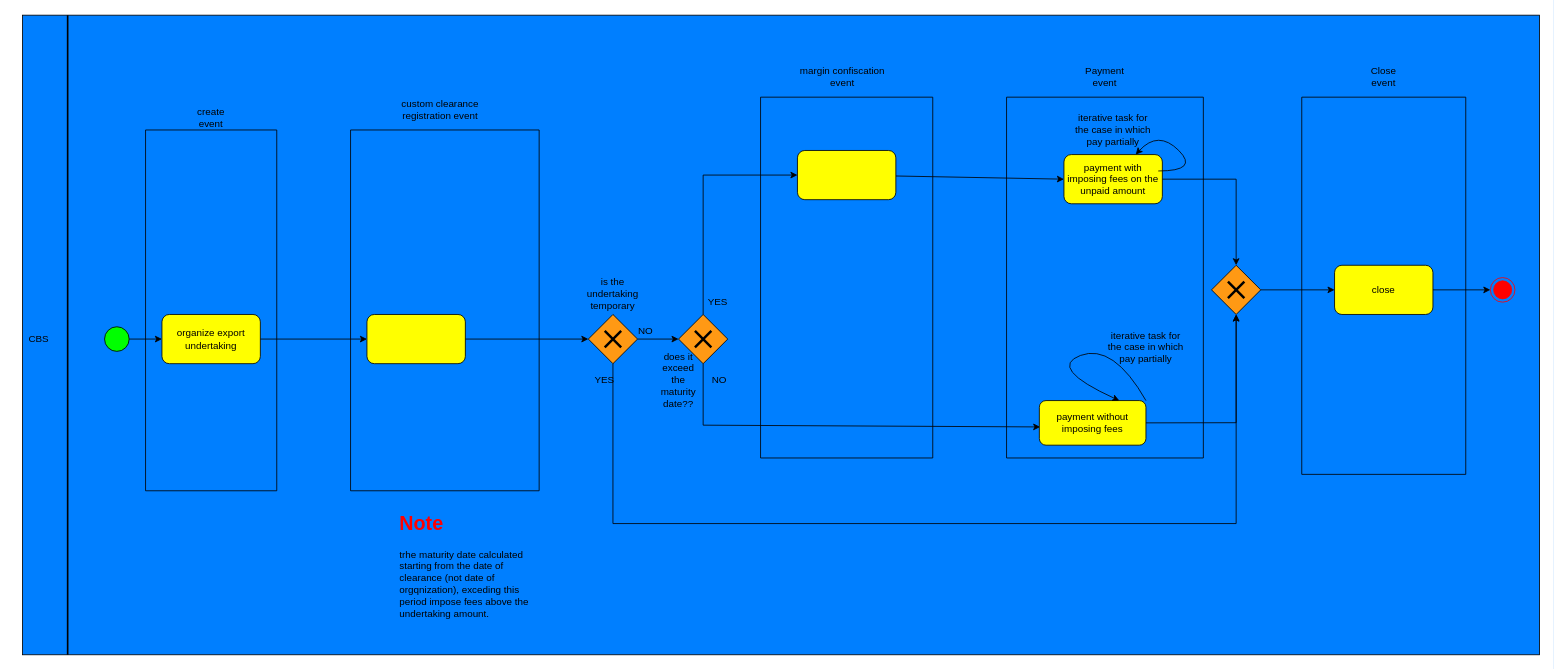
The diagram is 1554 pixels wide and 669 high, and some of its shapes have lost their labels. The centre of each missing label's shape, as x and y in pixels:
"custom clearance registration" belongs at pixel 415 339.
"margin confiscation" belongs at pixel 846 175.
